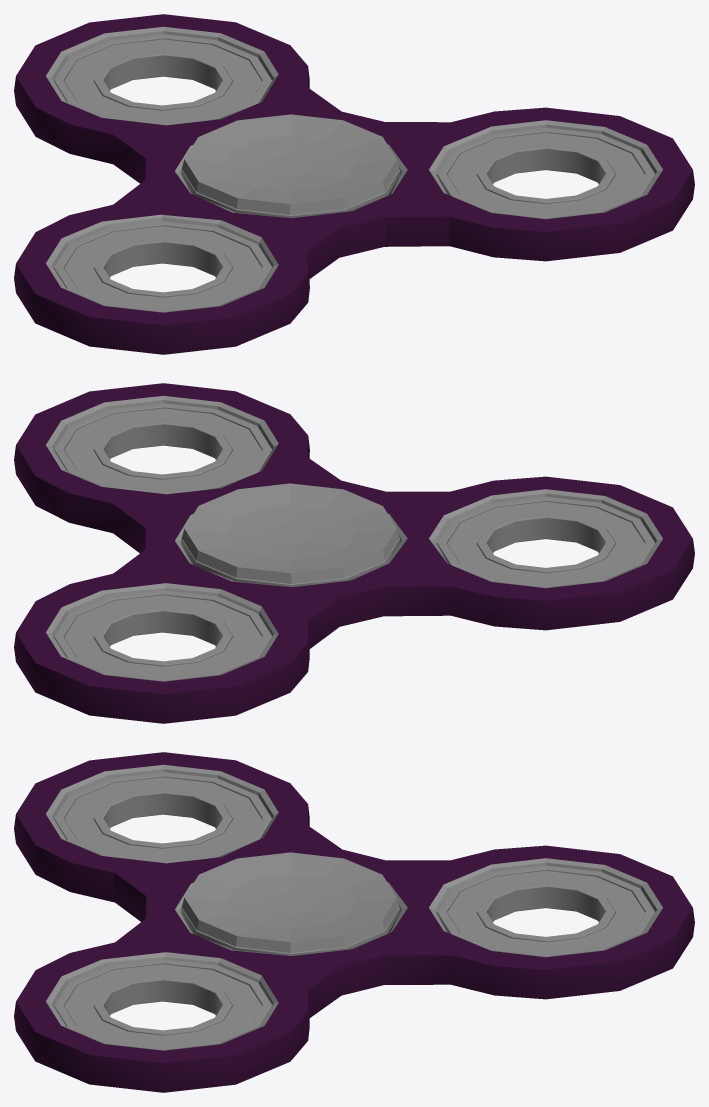
File: fidget.obj
3 views of the same model, one above another, from view 1: azimuth 30°, elevation 25°; view 2: azimuth 150°, elevation 25°; view 3: azimuth 270°, elevation 25° (orthographic).
Parts seen in each view (by area): view 1: fidget_fidget_spinner; view 2: fidget_fidget_spinner; view 3: fidget_fidget_spinner.
Boxes of the visible parts, left/top/right/bottom form: fidget_fidget_spinner: left=14, top=14, right=694, bottom=354; fidget_fidget_spinner: left=14, top=383, right=694, bottom=723; fidget_fidget_spinner: left=14, top=752, right=694, bottom=1092.
Size of the model in its own units: 0.0301 by 0.00226 by 0.0277.
